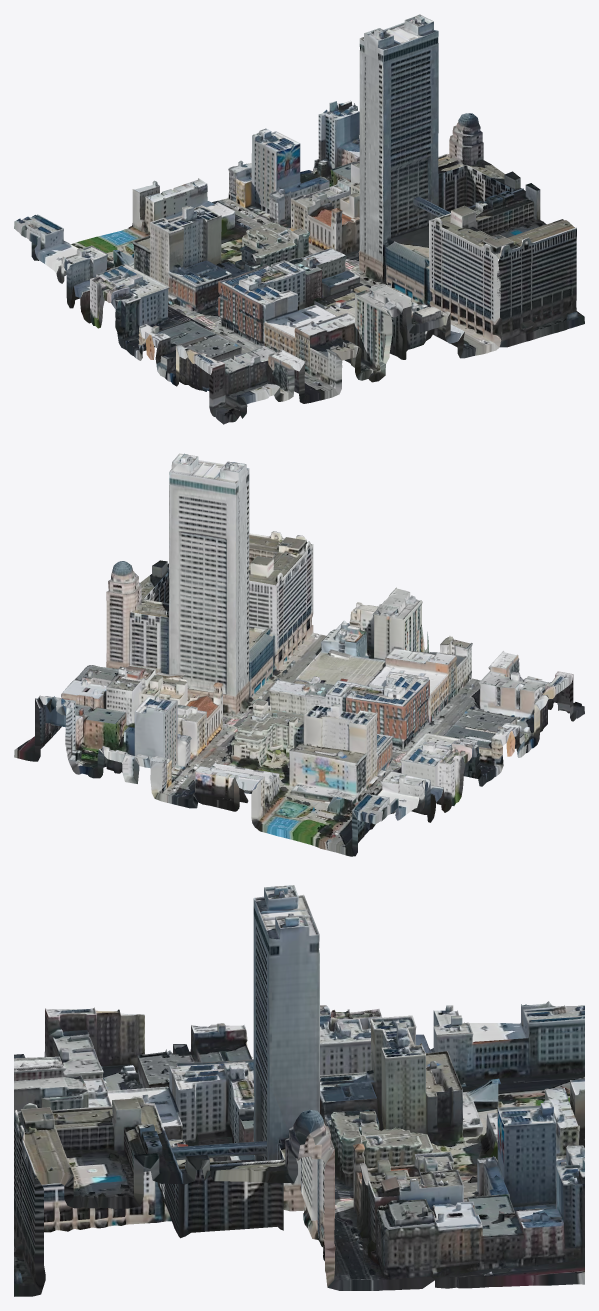
Rendered from z17-20967-50657-h0-yup-uvflip-v3-world.glb.
3 renders of one model, top to bottom at view 1: azimuth 30°, elevation 25°; view 2: azimuth 150°, elevation 25°; view 3: azimuth 270°, elevation 25°, orthographic. The views are drawn at different scales.
Size of the model in its own units: 242 by 166 by 243.
1 material, 1 textured.
